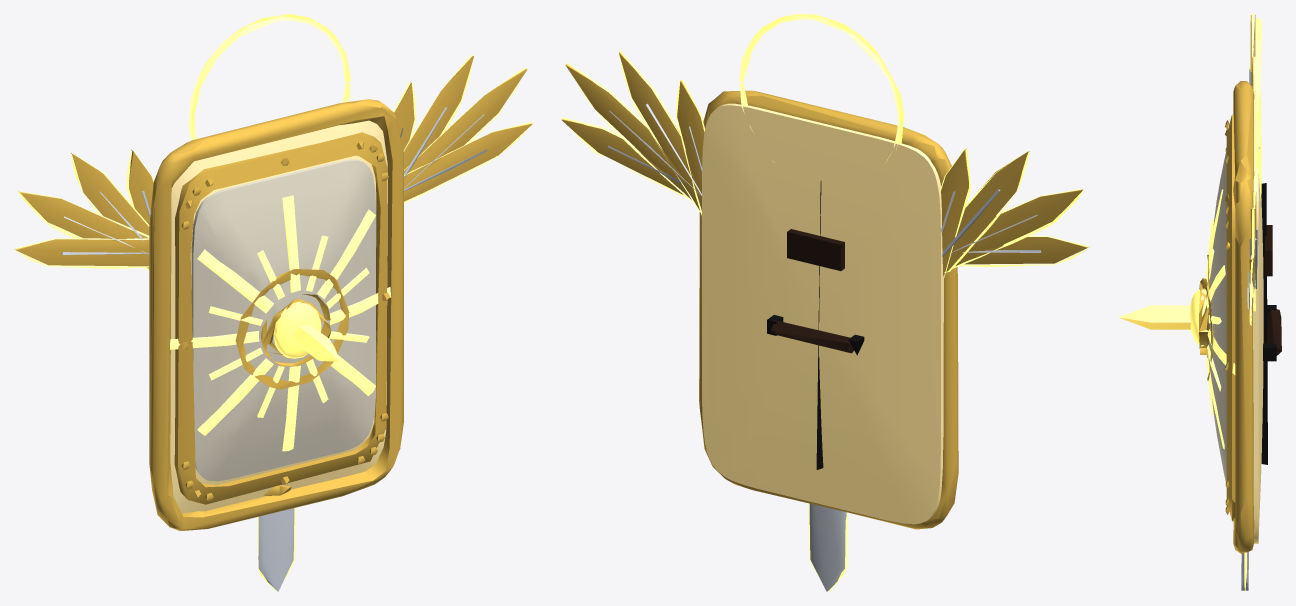
The model's file is greatshield_7.glb.
3 renders of one model, left to right at view 1: azimuth 30°, elevation 25°; view 2: azimuth 150°, elevation 25°; view 3: azimuth 270°, elevation 25°, orthographic. The views are drawn at different scales.
Visible parts, largest first — view 1: greatshield_7; view 2: greatshield_7; view 3: greatshield_7.
Part boxes in pixels (<box>): greatshield_7: <box>14,14,532,591</box>; greatshield_7: <box>561,14,1089,591</box>; greatshield_7: <box>1118,14,1281,591</box>.
Bounding box in the file's own units: 1.37 × 1.44 × 0.3781.
